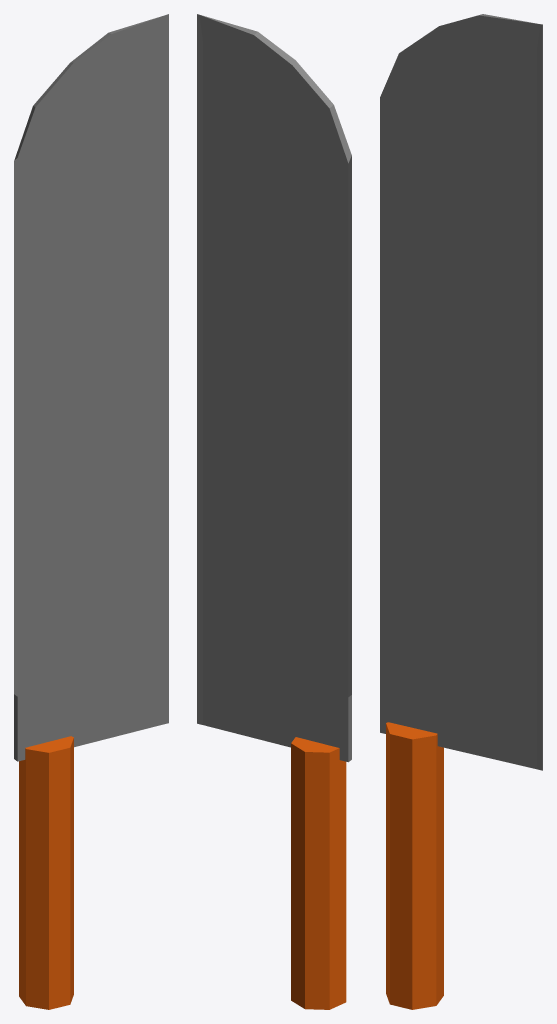
The picture shows the model from 3 angles, left to right: view 1: azimuth 30°, elevation 25°; view 2: azimuth 150°, elevation 25°; view 3: azimuth 330°, elevation 25°; orthographic projection. The views are drawn at different scales.
Parts seen in each view (by area): view 1: Cube, Cylinder; view 2: Cube, Cylinder; view 3: Cube, Cylinder.
Part boxes in pixels (x1,y1,x2,y2): Cube: (14,14,168,761); Cylinder: (19,736,73,1009); Cube: (197,14,351,762); Cylinder: (291,737,346,1009); Cube: (380,14,542,770); Cylinder: (386,722,443,1009).
Bounding box in the file's own units: 124 × 742 × 38.02.
